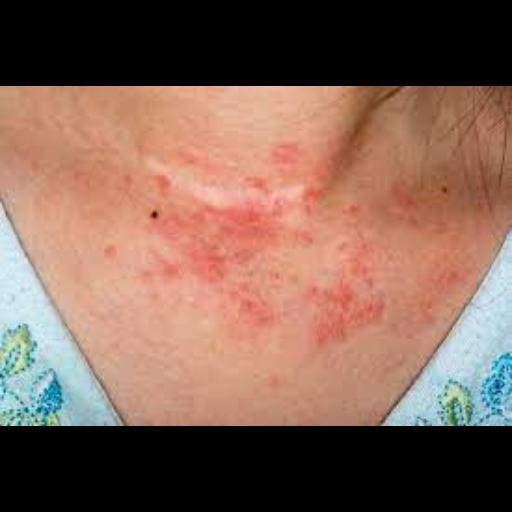Skin_Lesion: (198, 156, 322, 244), (330, 174, 434, 272), (301, 274, 389, 350), (228, 251, 280, 337), (142, 247, 228, 289), (258, 366, 294, 388), (157, 174, 177, 196)
